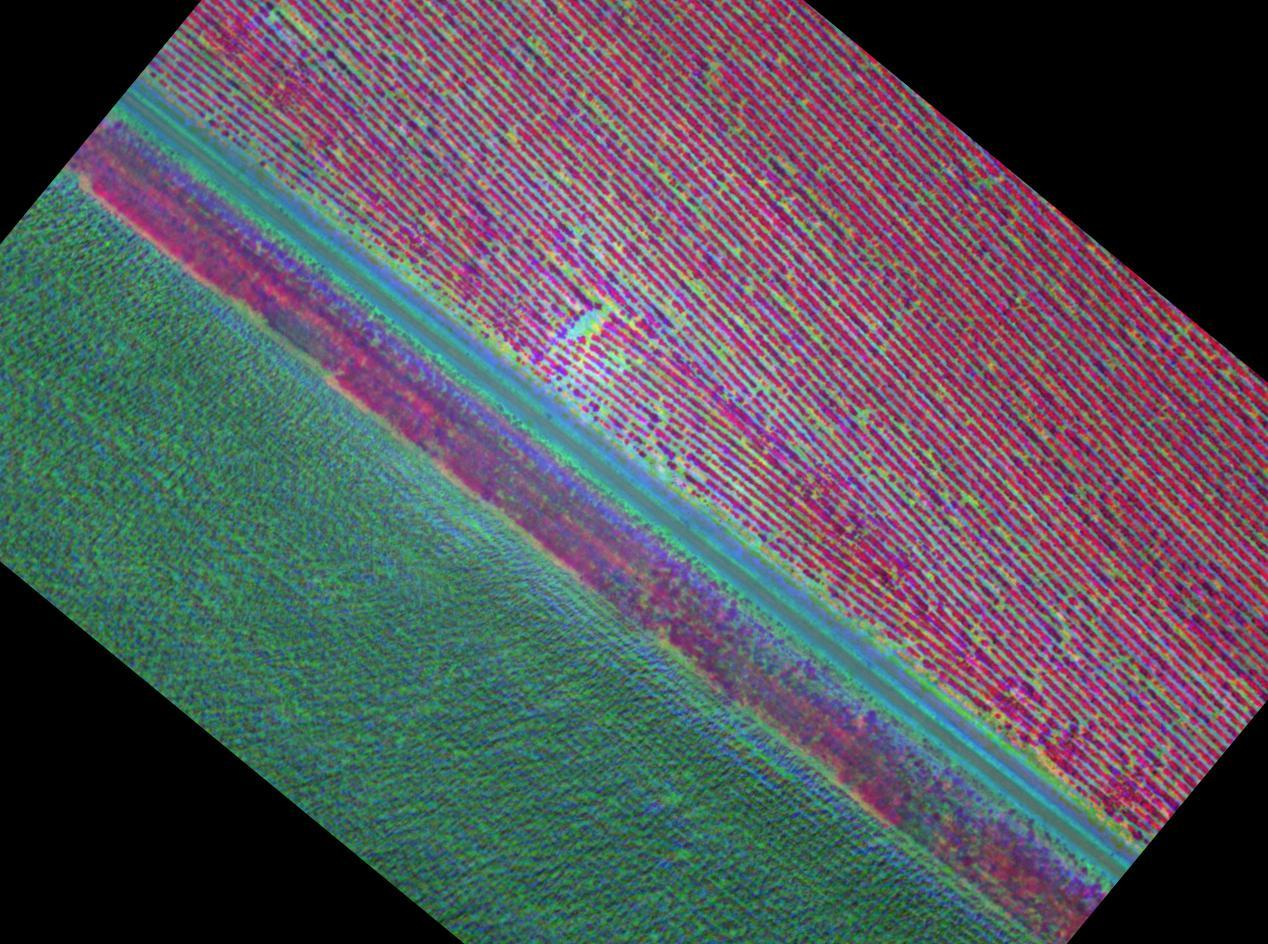dc: (576, 327, 582, 333), (588, 316, 595, 321), (964, 495, 969, 501), (557, 175, 561, 179), (859, 411, 863, 415)
